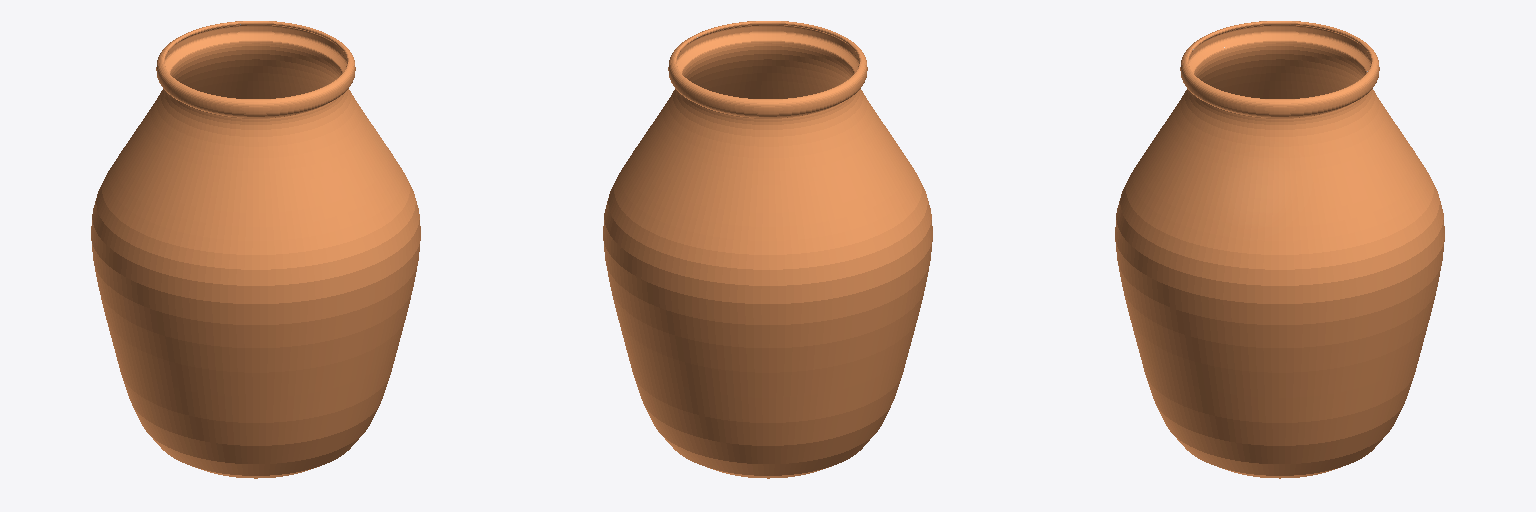
3 views of the same model, side by side, from view 1: azimuth 30°, elevation 25°; view 2: azimuth 150°, elevation 25°; view 3: azimuth 270°, elevation 25° (orthographic).
Visible parts, largest first — view 1: Circle.005; view 2: Circle.005; view 3: Circle.005.
Part boxes in pixels (bbox=[...]): Circle.005: bbox=[91, 21, 420, 478]; Circle.005: bbox=[603, 21, 932, 478]; Circle.005: bbox=[1115, 21, 1444, 478].
Size of the model in its own units: 1.09 by 1.42 by 1.09.
Materials: 1 (1 with a texture image).